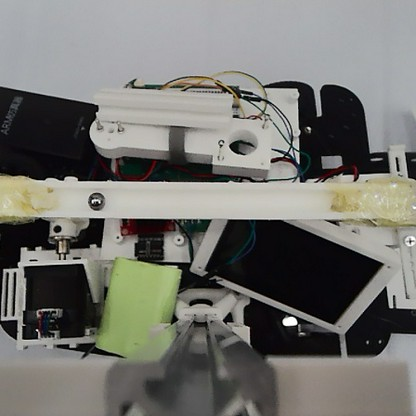ironball: (84, 188, 105, 211)
